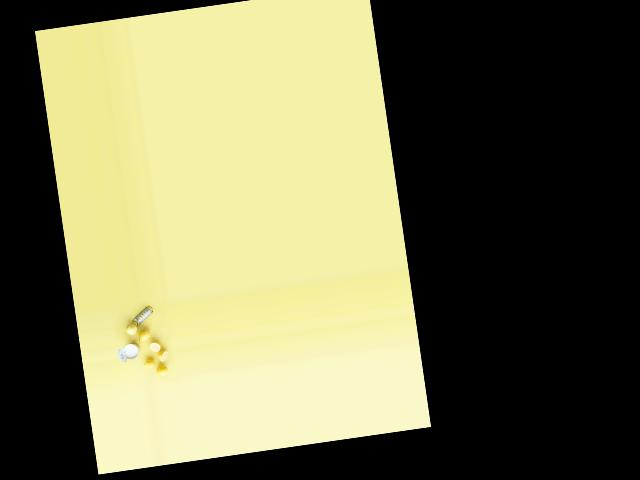lemon: (124, 324, 140, 337)
